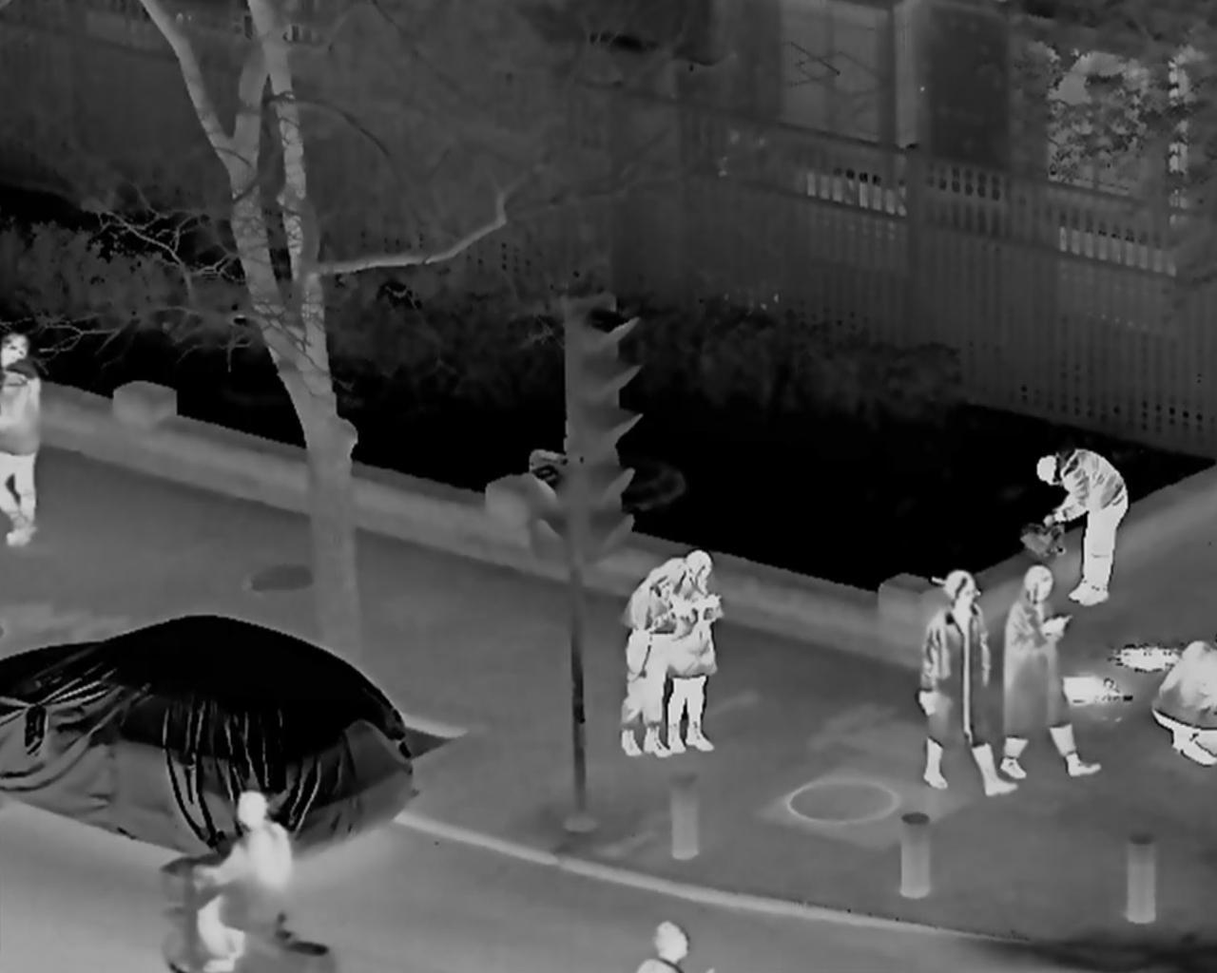person: (994, 569, 1101, 782), (918, 573, 1012, 797), (194, 793, 292, 966), (1035, 448, 1126, 604), (657, 541, 721, 755), (615, 559, 668, 761), (1155, 641, 1217, 760)
